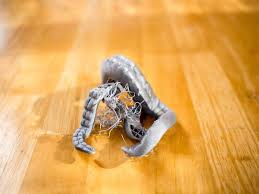fail: (71, 75, 145, 155)
